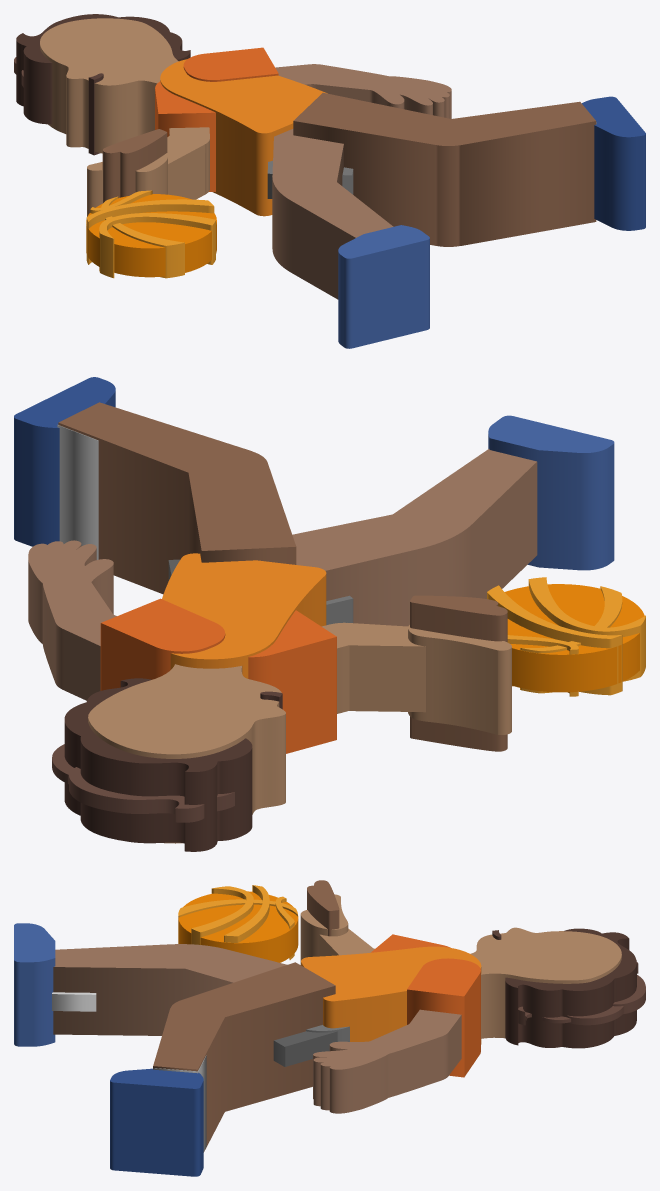
File: emoji_u26f9_1f3fd.glb
The picture shows the model from 3 angles, top to bottom: view 1: azimuth 30°, elevation 25°; view 2: azimuth 150°, elevation 25°; view 3: azimuth 270°, elevation 25°; orthographic projection. The views are drawn at different scales.
Parts seen in each view (by area): view 1: emoji_u26f9_1f3fd; view 2: emoji_u26f9_1f3fd; view 3: emoji_u26f9_1f3fd.
Boxes of the visible parts, box(x1,y1,x2,y2) form: emoji_u26f9_1f3fd: box(14, 14, 645, 348); emoji_u26f9_1f3fd: box(14, 377, 645, 851); emoji_u26f9_1f3fd: box(14, 880, 645, 1176).
Size of the model in its own units: 0.029 by 0.0058 by 0.0339.
